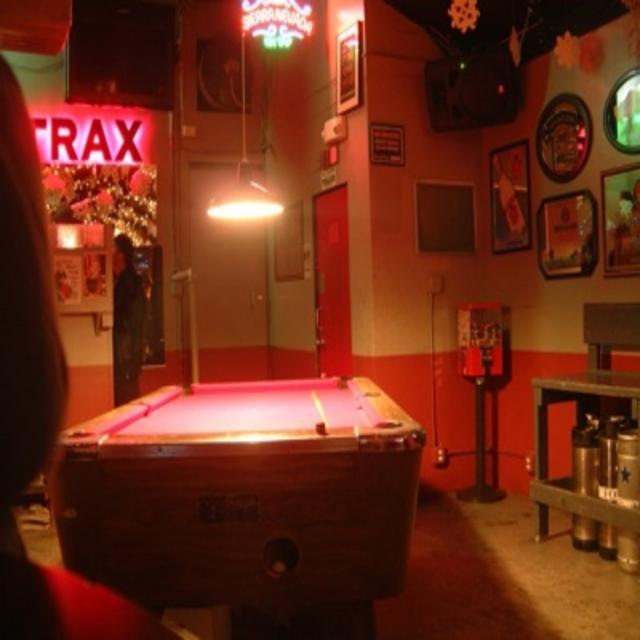Billiard table: (43, 375, 431, 638)
